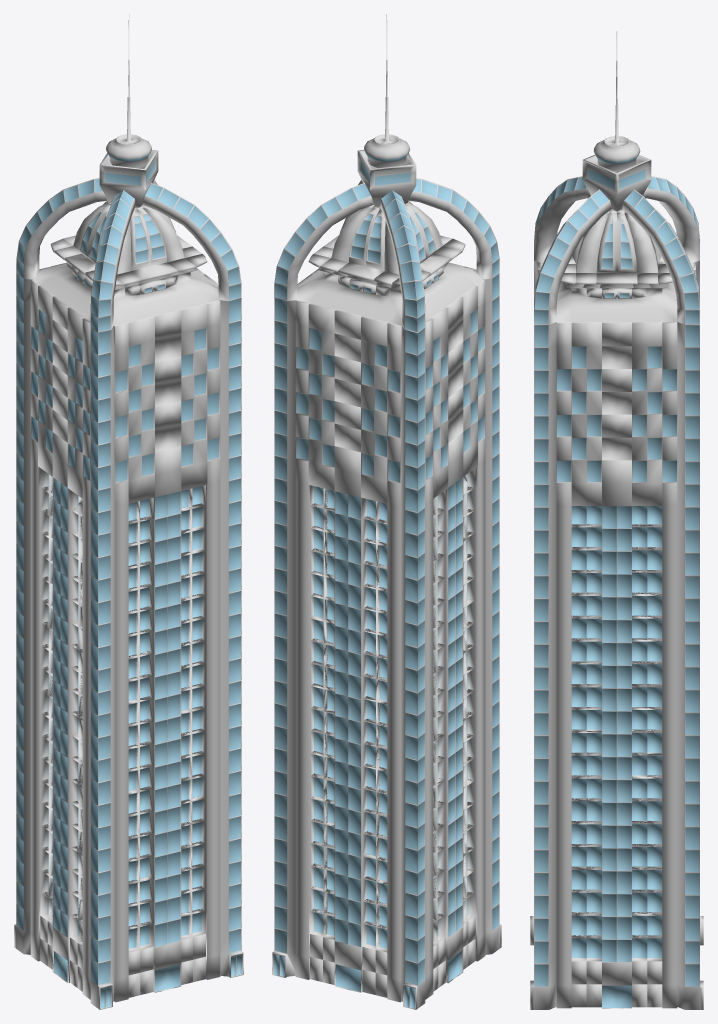
File: skyscraper06_mc.fbx
The picture shows the model from 3 angles, left to right: view 1: azimuth 30°, elevation 25°; view 2: azimuth 150°, elevation 25°; view 3: azimuth 270°, elevation 25°; orthographic projection.
Visible parts, largest first — view 1: Box01; view 2: Box01; view 3: Box01.
Part boxes in pixels (bbox=[...]): Box01: bbox=[14, 14, 243, 1009]; Box01: bbox=[272, 14, 501, 1009]; Box01: bbox=[530, 31, 703, 1009].
Size of the model in its own units: 12.21 by 76.87 by 12.59.
